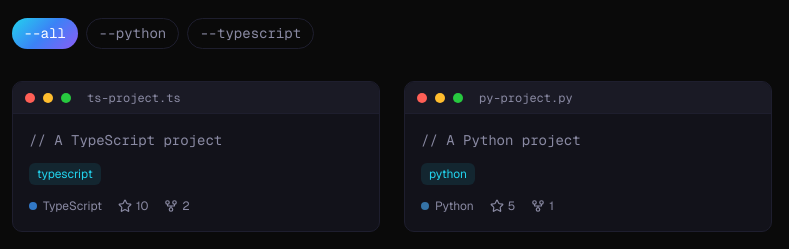
Test case: ProjectsClient › shows all projects when clicking --all after filtering
What coordinates should you click on to do the following:
click the button "--python"
I would click on:
 (133, 34)
Its box is [86,18,179,49].
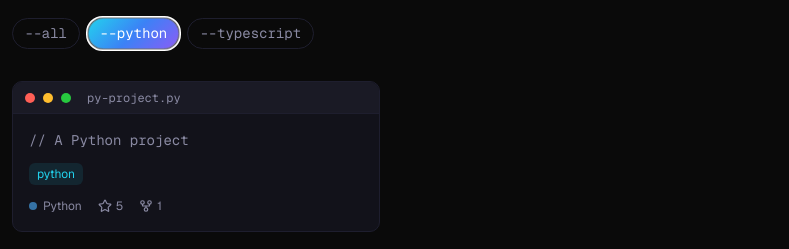
What coordinates should you click on to do the following:
click the button "--all"
I would click on:
 (46, 34)
Its box is [12,18,80,49].
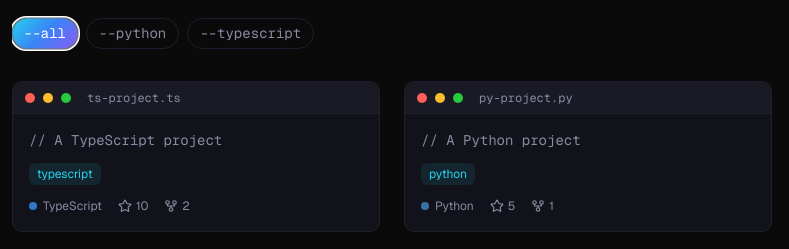
Expected: the text "py-project.py" is shown, [479,88,573,106]
Result: the text "ts-project.ts" is shown at [87,88,181,106]
